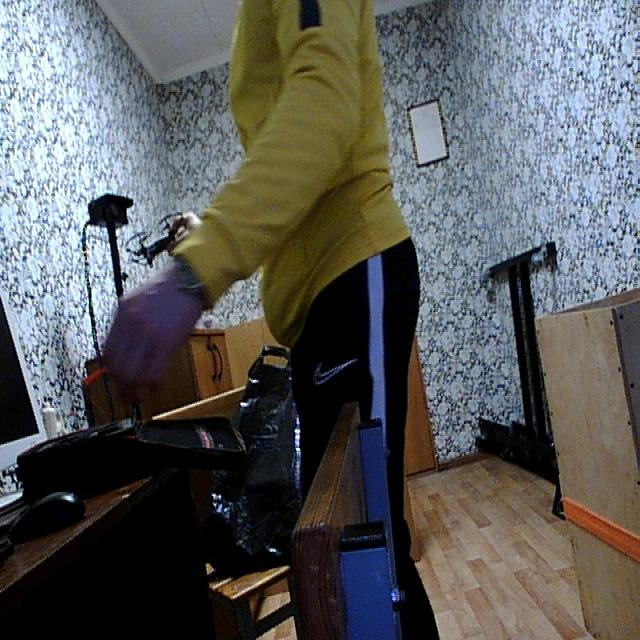drone: (120, 208, 206, 276)
